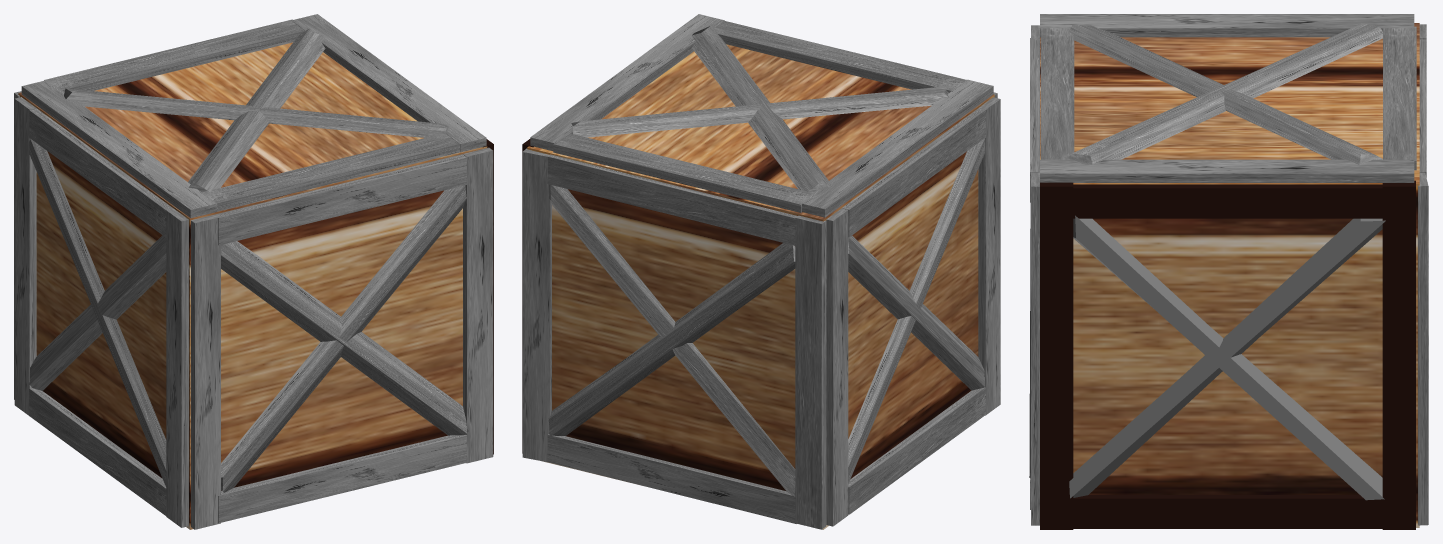
The model's file is boxv1.fbx.
3 renders of one model, left to right at view 1: azimuth 30°, elevation 25°; view 2: azimuth 150°, elevation 25°; view 3: azimuth 270°, elevation 25°, orthographic. The views are drawn at different scales.
Visible parts, largest first — view 1: Cube, Куб.017, Куб.016, Куб.013, Куб.012, Куб.014, Куб.015, Куб.007, Куб.006, Куб.010, Куб.018, Куб.022 (+7 smaller); view 2: Cube, Куб.001, Куб, Куб.004, Куб.005, Куб.003, Куб.002, Куб.006, Куб.007, Куб.023, Куб.018, Куб.021 (+7 smaller); view 3: Cube, Куб.019, Куб.022, Куб.018, Куб.023, Куб.020, Куб.021, Куб, Куб.013, Куб.014, Куб.003.
Part boxes in pixels (bbox=[...]): Cube: bbox=[18, 42, 493, 529]; Куб.017: bbox=[221, 185, 466, 492]; Куб.016: bbox=[221, 241, 468, 435]; Куб.013: bbox=[463, 147, 493, 463]; Куб.012: bbox=[191, 214, 220, 529]; Куб.014: bbox=[217, 154, 466, 245]; Куб.015: bbox=[218, 435, 466, 523]; Куб.007: bbox=[166, 208, 188, 527]; Куб.006: bbox=[14, 97, 36, 415]; Куб.010: bbox=[29, 138, 166, 486]; Куб.018: bbox=[21, 80, 216, 218]; Куб.022: bbox=[64, 88, 449, 137]; Cube: bbox=[522, 44, 994, 529]; Куб.001: bbox=[795, 215, 826, 529]; Куб: bbox=[522, 148, 551, 462]; Куб.004: bbox=[548, 243, 795, 435]; Куб.005: bbox=[549, 184, 795, 495]; Куб.003: bbox=[547, 154, 797, 245]; Куб.002: bbox=[547, 434, 796, 523]; Куб.006: bbox=[826, 208, 848, 526]; Куб.007: bbox=[978, 97, 1000, 415]; Куб.023: bbox=[571, 86, 950, 137]; Куб.018: bbox=[799, 79, 993, 217]; Куб.021: bbox=[553, 133, 812, 212]; Cube: bbox=[1040, 23, 1419, 529]; Куб.019: bbox=[1040, 159, 1414, 182]; Куб.022: bbox=[1068, 23, 1382, 164]; Куб.018: bbox=[1040, 14, 1414, 37]; Куб.023: bbox=[1068, 25, 1382, 164]; Куб.020: bbox=[1040, 28, 1074, 159]; Куб.021: bbox=[1383, 26, 1416, 170]; Куб: bbox=[1418, 172, 1428, 525]; Куб.013: bbox=[1031, 172, 1039, 525]; Куб.014: bbox=[1030, 38, 1039, 202]; Куб.003: bbox=[1419, 39, 1426, 177].
Size of the model in its own units: 210 by 209 by 210.
